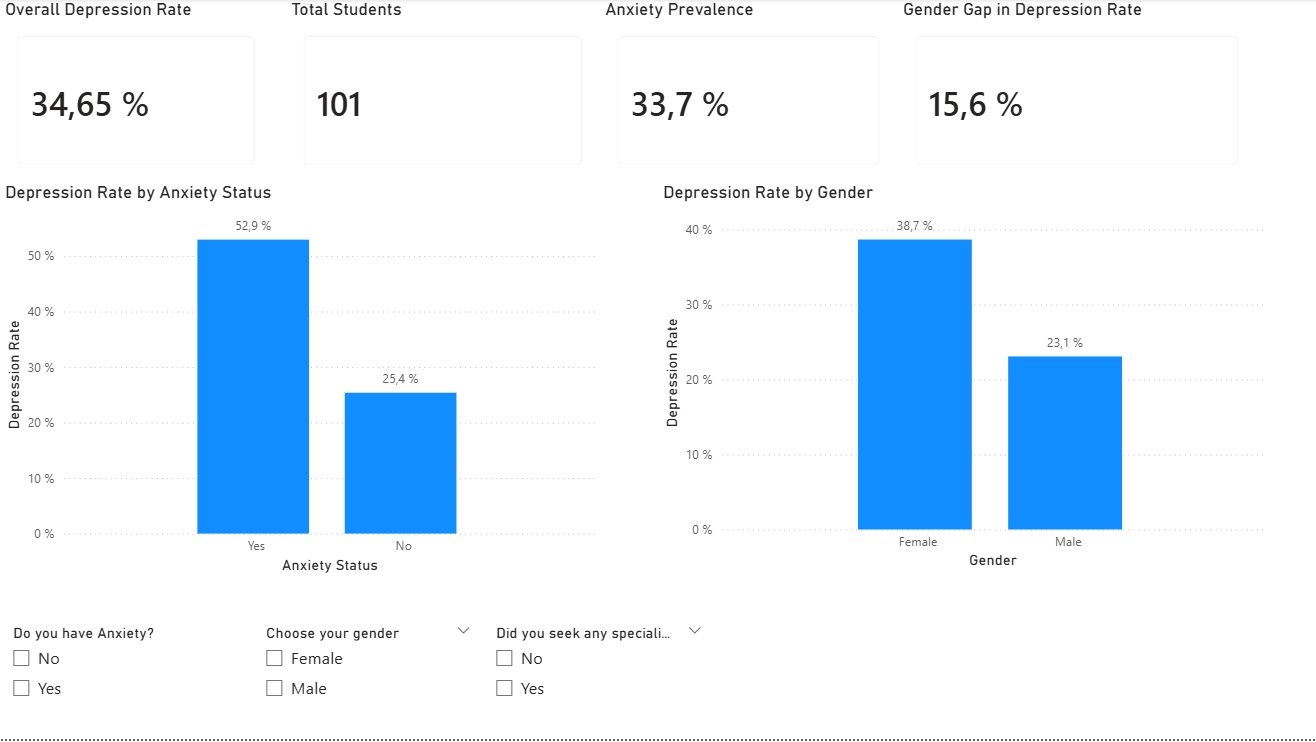

This screenshot's page, from the dashboard's own definition file:
{"tool":"powerbi","page":{"name":"Página 1","canvas":[1280,720],"ordinal":0},"visuals":[{"type":"clusteredColumnChart","title":"Depression Rate by Gender","fields":{"Category":["student_mental_health_202602241635.Choose your gender"],"Y":["student_mental_health_202602241635.Porcentaje_Depresion_Correcto"]},"box":[640,178,594,381],"z":0},{"type":"cardVisual","title":"Overall Depression Rate","fields":{"Data":["student_mental_health_202602241635.Porcentaje Depresion"]},"box":[0,0,265,178],"z":1000},{"type":"clusteredColumnChart","title":"Depression Rate by Anxiety Status","fields":{"Category":["student_mental_health_202602241635.Do you have Anxiety?"],"Y":["student_mental_health_202602241635.Porcentaje_Depresion_Correcto"]},"box":[0,178,584,385],"z":2000},{"type":"slicer","fields":{"Values":["student_mental_health_202602241635.Choose your gender"]},"box":[246,603,224,103],"z":3000},{"type":"slicer","fields":{"Values":["student_mental_health_202602241635.Do you have Anxiety?"]},"box":[0,603,225,103],"z":4000},{"type":"slicer","fields":{"Values":["student_mental_health_202602241635.Did you seek any specialist for a treatment?"]},"box":[470,603,225,103],"z":5000},{"type":"cardVisual","title":"Total Students","fields":{"Data":["CountNonNull(student_mental_health_202602241635.Choose your gender)"]},"box":[278,0,305,178],"z":5001},{"type":"cardVisual","title":"Anxiety Prevalence","fields":{"Data":["student_mental_health_202602241635.Anxiety Rate"]},"box":[584,0,289,178],"z":5002},{"type":"cardVisual","title":"Gender Gap in Depression Rate","fields":{"Data":["student_mental_health_202602241635.Gender Gap"]},"box":[873,0,348,178],"z":5003}]}

Visuals, with their boxes in screenshot pixels (x1, y1, x2, y2), scaled from the page's 1280x720 canvas onto the 1316x742 screenshot:
"Depression Rate by Gender" clusteredColumnChart: bbox(658, 183, 1269, 576)
"Overall Depression Rate" cardVisual: bbox(0, 0, 272, 183)
"Depression Rate by Anxiety Status" clusteredColumnChart: bbox(0, 183, 600, 580)
slicer - student_mental_health_202602241635.Choose your gender: bbox(253, 621, 483, 728)
slicer - student_mental_health_202602241635.Do you have Anxiety?: bbox(0, 621, 231, 728)
slicer - student_mental_health_202602241635.Did you seek any specialist for a treatment?: bbox(483, 621, 715, 728)
"Total Students" cardVisual: bbox(286, 0, 599, 183)
"Anxiety Prevalence" cardVisual: bbox(600, 0, 898, 183)
"Gender Gap in Depression Rate" cardVisual: bbox(898, 0, 1255, 183)
